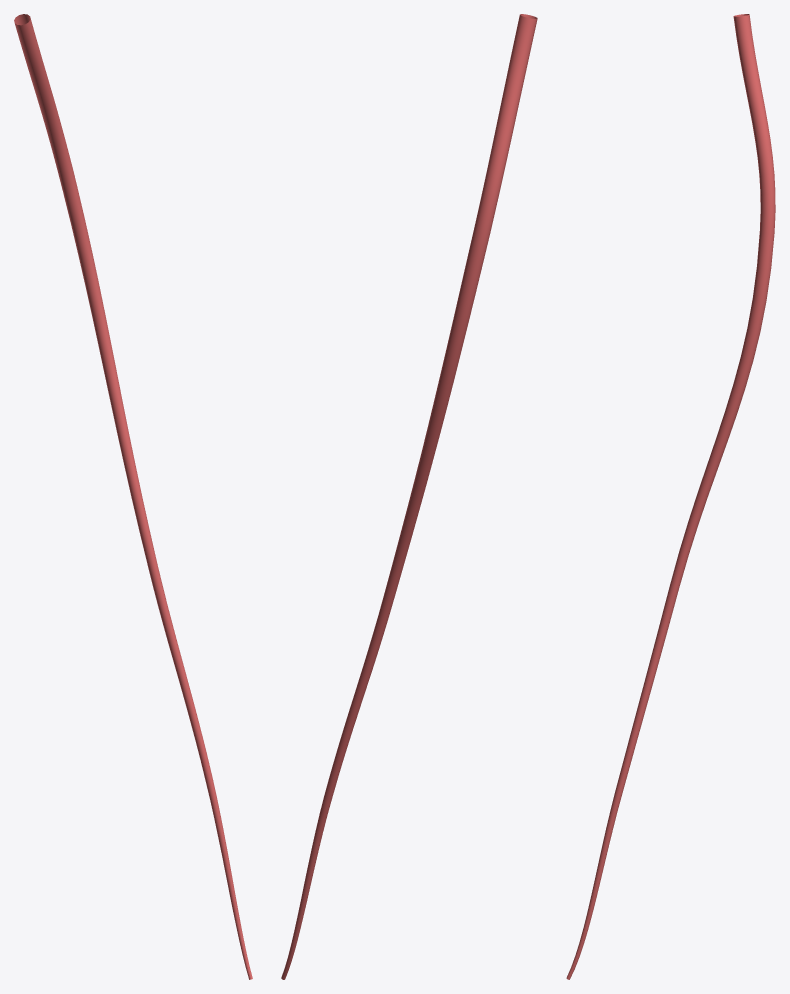
The model's file is Posterior_interosseous_artery_left.glb.
3 renders of one model, left to right at view 1: azimuth 30°, elevation 25°; view 2: azimuth 210°, elevation 25°; view 3: azimuth 270°, elevation 25°, orthographic. The views are drawn at different scales.
Parts seen in each view (by area): view 1: Posterior_interosseus_artery.l_BezierCurve.167; view 2: Posterior_interosseus_artery.l_BezierCurve.167; view 3: Posterior_interosseus_artery.l_BezierCurve.167.
Boxes of the visible parts, bbox=[...] form: Posterior_interosseus_artery.l_BezierCurve.167: bbox=[14, 14, 252, 979]; Posterior_interosseus_artery.l_BezierCurve.167: bbox=[281, 14, 537, 979]; Posterior_interosseus_artery.l_BezierCurve.167: bbox=[566, 14, 775, 979].
Size of the model in its own units: 0.0219 by 0.132 by 0.0277.
